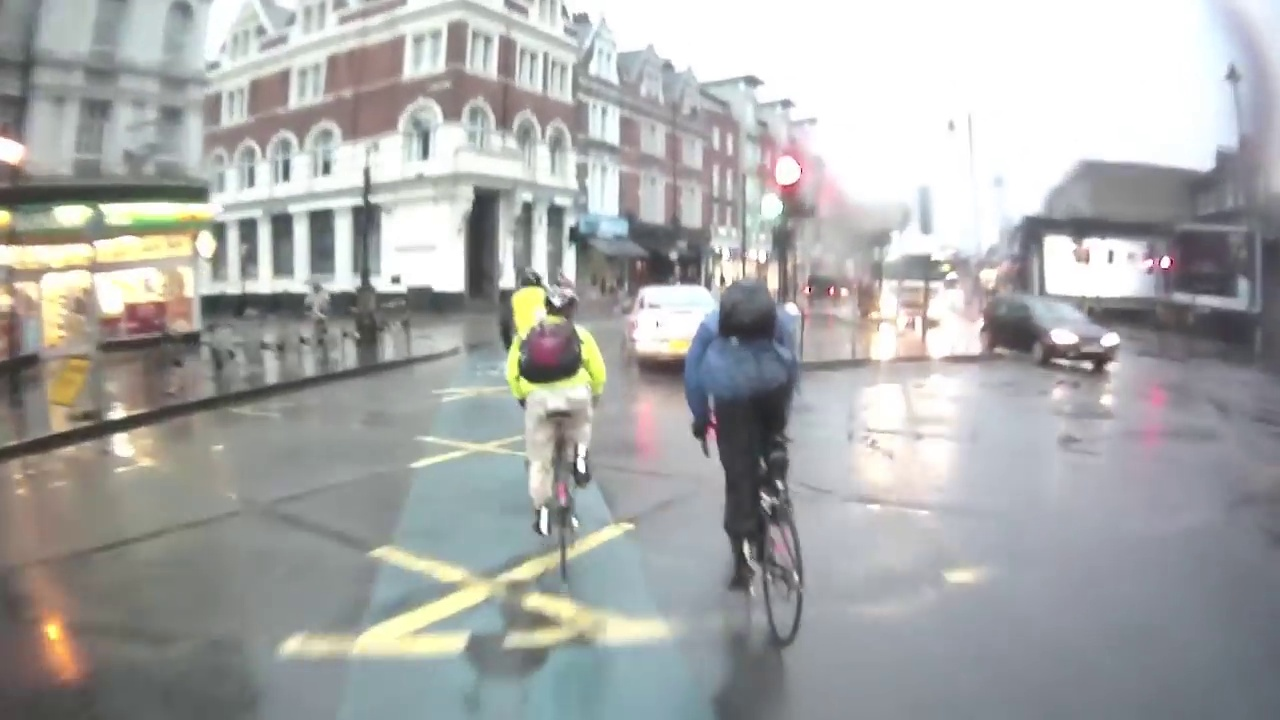cyclist_back: (681, 267, 821, 647), (504, 281, 617, 582)
